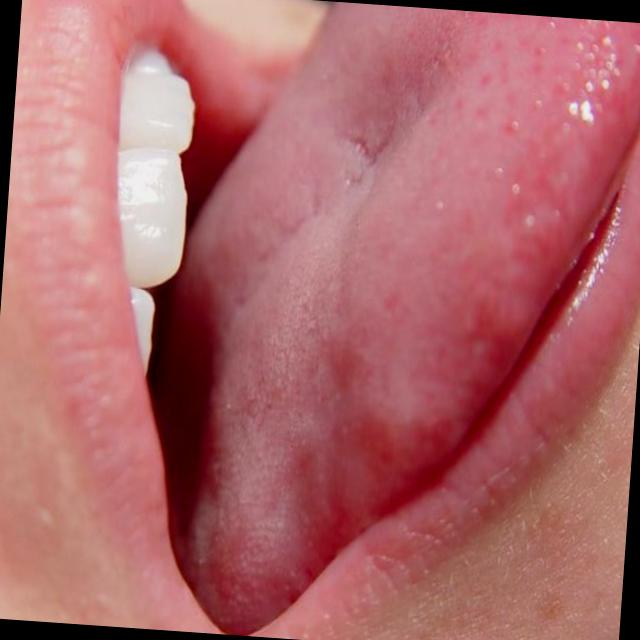No Cancer: (191, 0, 640, 599)
